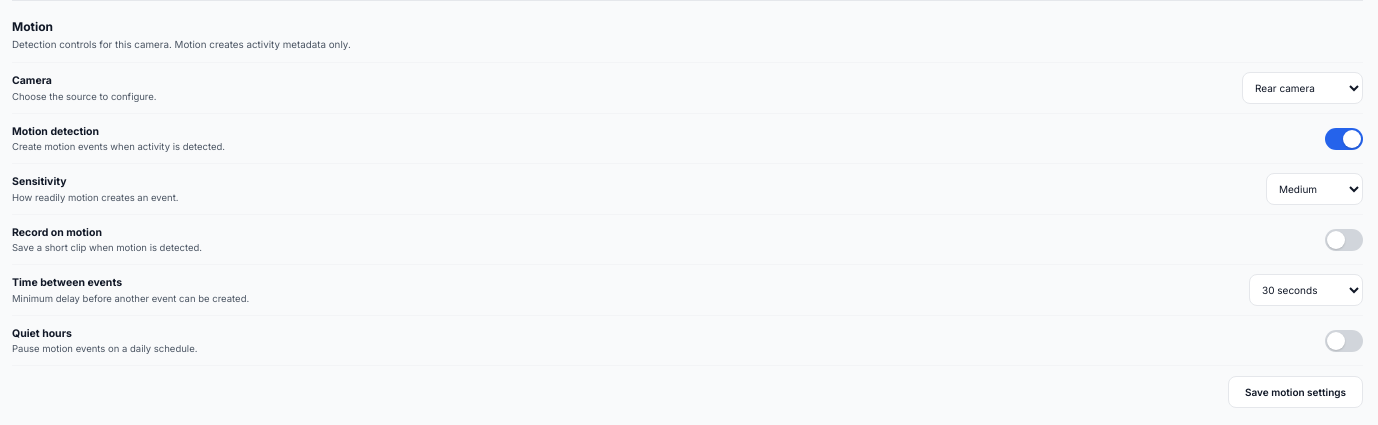
Test: MotionSettingsPanel › loads inline, chooses a camera, and saves an explicit per-camera change
This screenshot has width=1378, height=425.
Select "Front camera" in the dropdown named "Motion settings camera": coordinates (1302, 88) [1242, 72, 1363, 104]
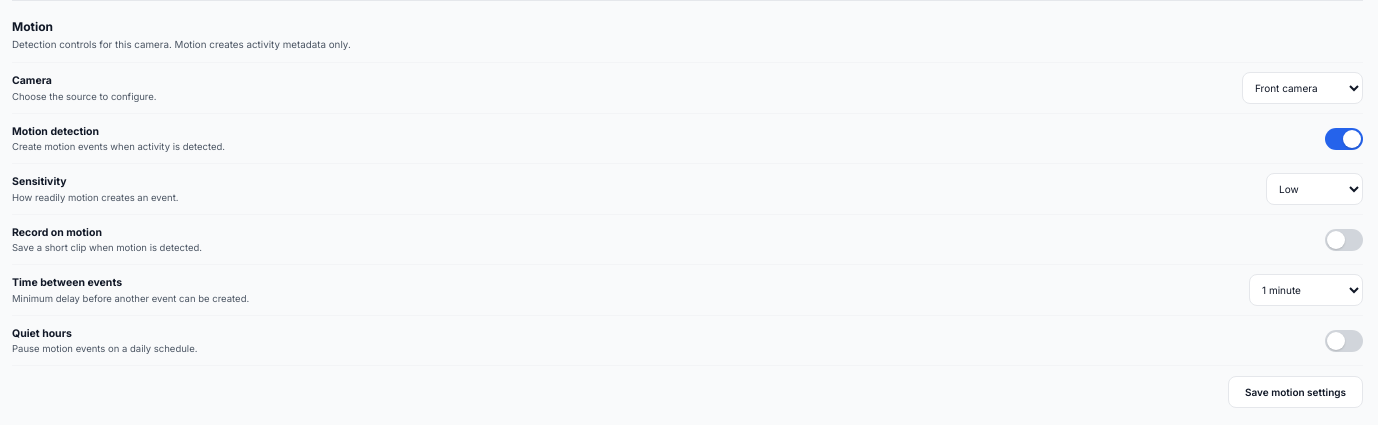
Click the checkbox named "Detect motion on this camera": coordinates (1344, 139) [1325, 128, 1363, 150]
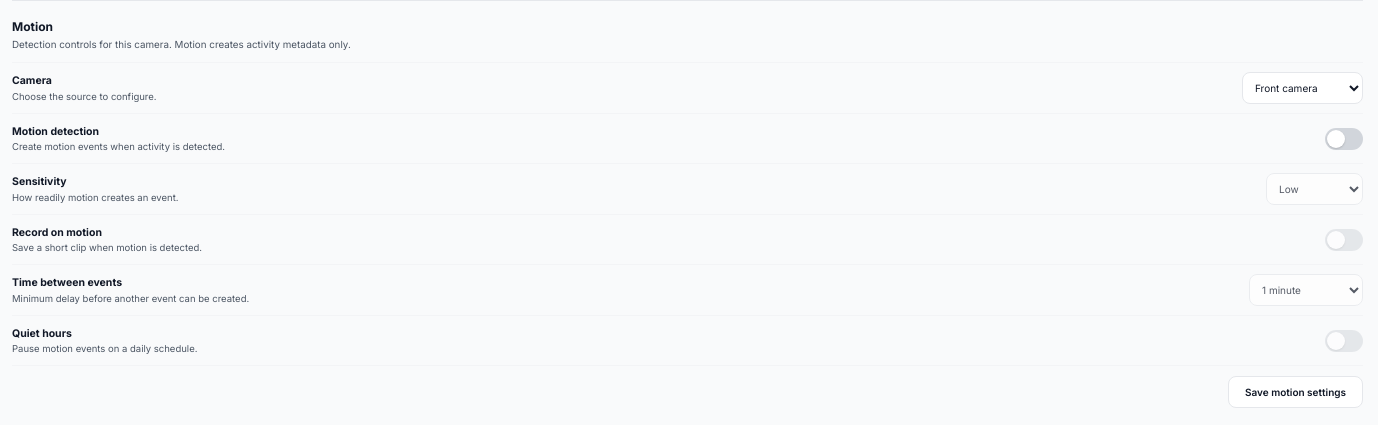
Select "High" in the dropdown labelled "Sensitivity": coordinates (1314, 189) [1266, 173, 1363, 205]
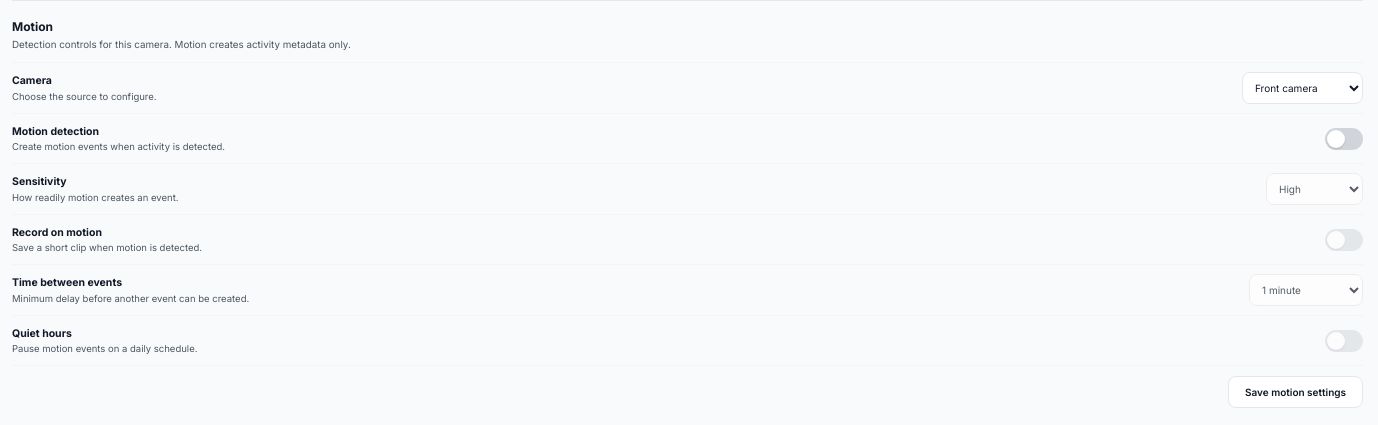
Select "2 minutes" in the dropdown labelled "Time between events": coordinates (1306, 290) [1249, 274, 1363, 306]
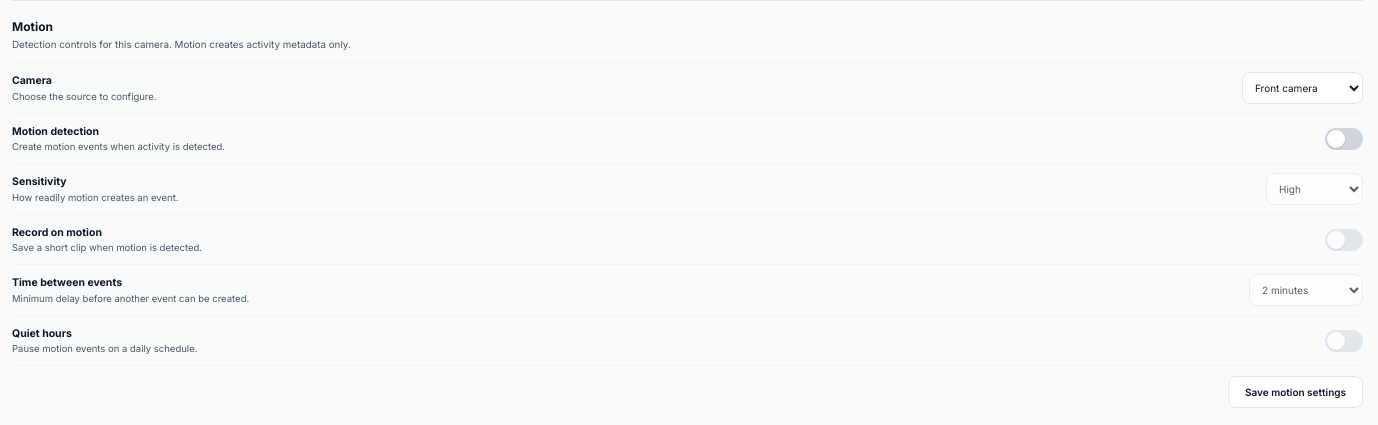
Click the button "Save motion settings": coordinates (1296, 392) [1228, 376, 1363, 408]
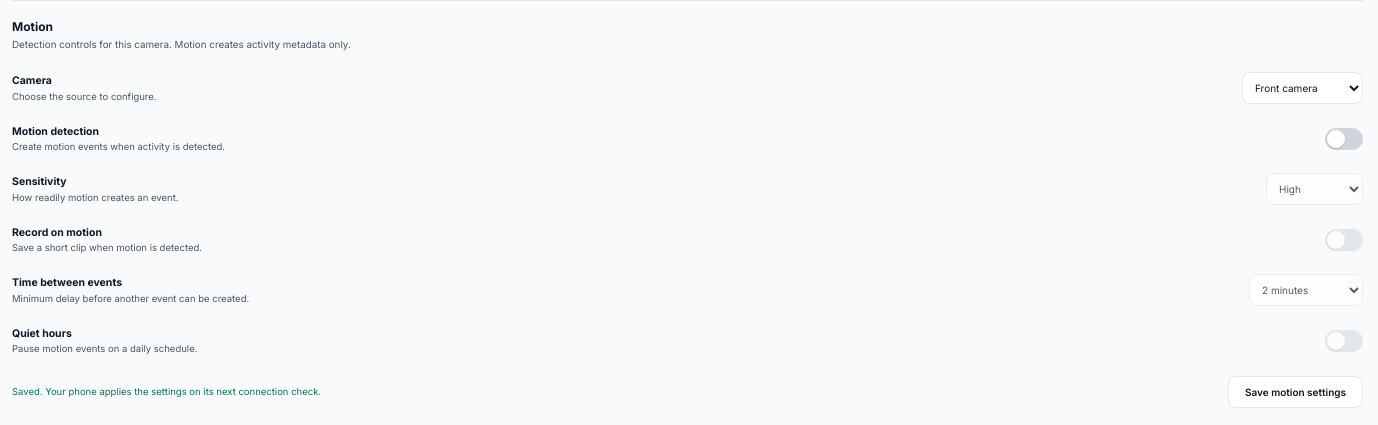
Check: the text "Saved. Your phone applies the settings on its next connection check." is shown, box [12, 386, 321, 397]
